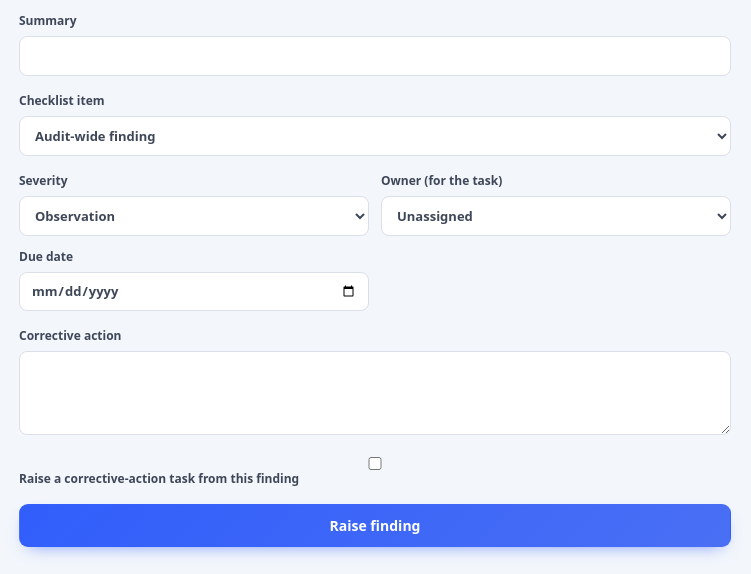
it: requires corrective action when the operator asks for a corrective-action task
Click the checkbox labelled "Raise a corrective-action task from this finding".
click(375, 464)  # box [19,457,731,470]
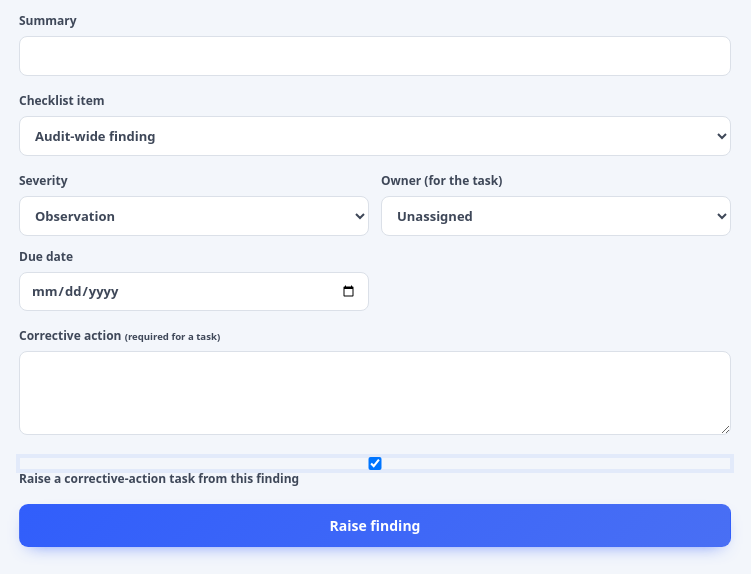
expect the text "(required for a task)" is shown: met, box [125,330,220,343]
